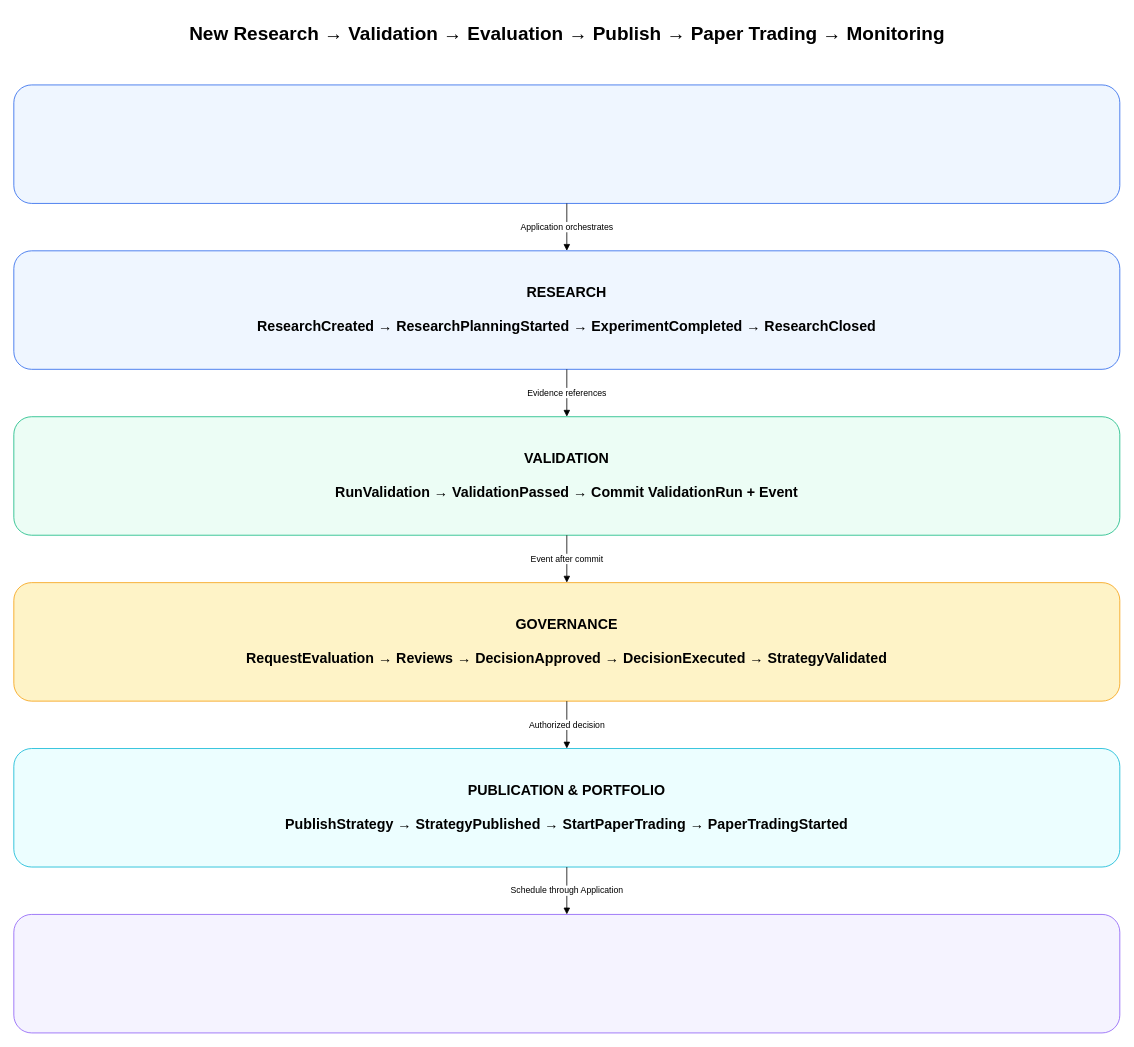
Image size: 1134x1047. Some labels were removed from this diagram. The shapes that lost their labels are listed below. From the top down, each one's box as (x1, y1, x2, y2) in pixels, then its label:
(13, 84, 1120, 203): HUMAN ENTRY User → Next.js → FastAPI Gateway → Application CreateResearch
(13, 914, 1120, 1033): MONITORING Scheduler → StartMonitoring → Mandate Active → MonitoringStarted
